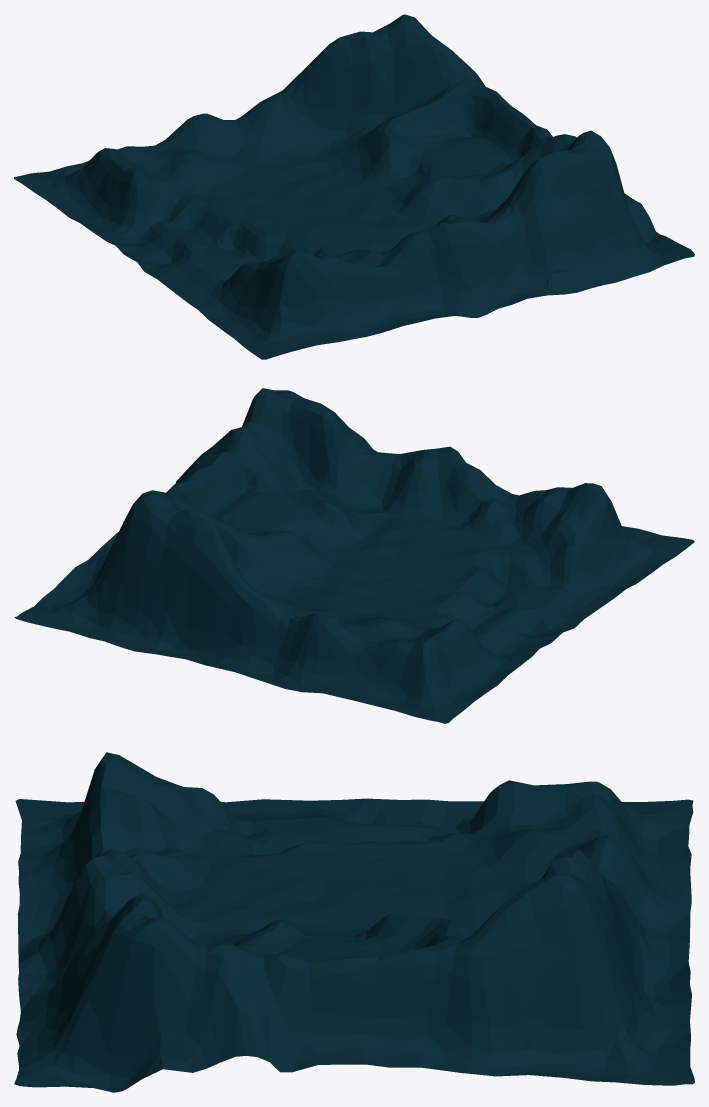
File: TerrainLowPolyEpicForceFNL.fbx
3 views of the same model, one above another, from view 1: azimuth 30°, elevation 25°; view 2: azimuth 150°, elevation 25°; view 3: azimuth 270°, elevation 25° (orthographic). The views are drawn at different scales.
Parts seen in each view (by area): view 1: Plane; view 2: Plane; view 3: Plane.
Part boxes in pixels (x1=…): Plane: x1=14, y1=14, x2=694, y2=359; Plane: x1=14, y1=388, x2=694, y2=723; Plane: x1=14, y1=752, x2=694, y2=1092.
Bounding box in the file's own units: 5453 × 1468 × 5457.
